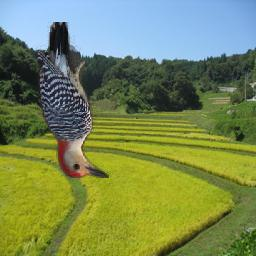Woodpecker: (35, 22, 109, 178)
